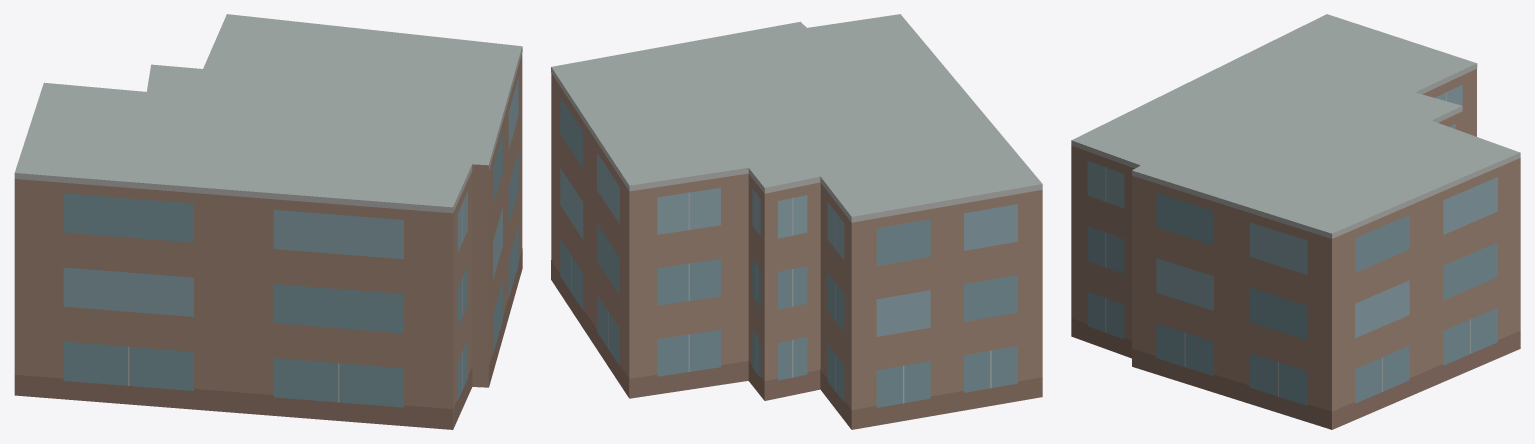
Rendered from survey-upis-32604585.glb.
3 renders of one model, left to right at view 1: azimuth 30°, elevation 25°; view 2: azimuth 150°, elevation 25°; view 3: azimuth 270°, elevation 25°, orthographic. The views are drawn at different scales.
Parts seen in each view (by area): view 1: survey-upis-32604585.tmp; view 2: survey-upis-32604585.tmp; view 3: survey-upis-32604585.tmp.
Boxes of the visible parts, x1,y1,x2,y2 form: survey-upis-32604585.tmp: [14, 14, 522, 429]; survey-upis-32604585.tmp: [551, 14, 1042, 429]; survey-upis-32604585.tmp: [1071, 14, 1520, 429].
Bounding box in the file's own units: 21.99 × 9.15 × 18.99.
